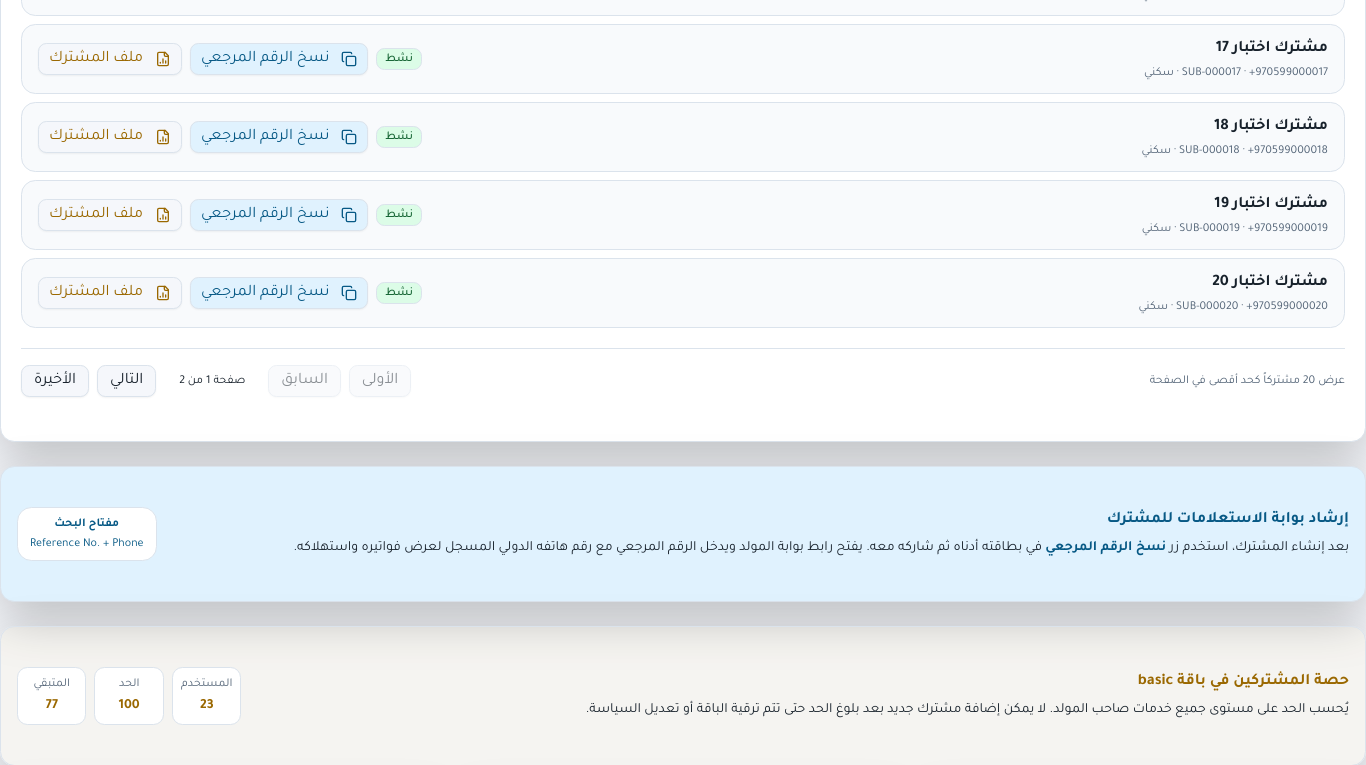
role guards in administration UI › shows no more than 20 subscribers per page and can navigate to the 21st subscriber
(page scrolled)
Expected: the text "مشترك اختبار 20" is shown, [1212,275,1328,291]
Expected: the text "مشترك اختبار 21" is not shown
Click the button "التالي".
click(127, 381)  # box [97,365,156,397]
(page scrolled)
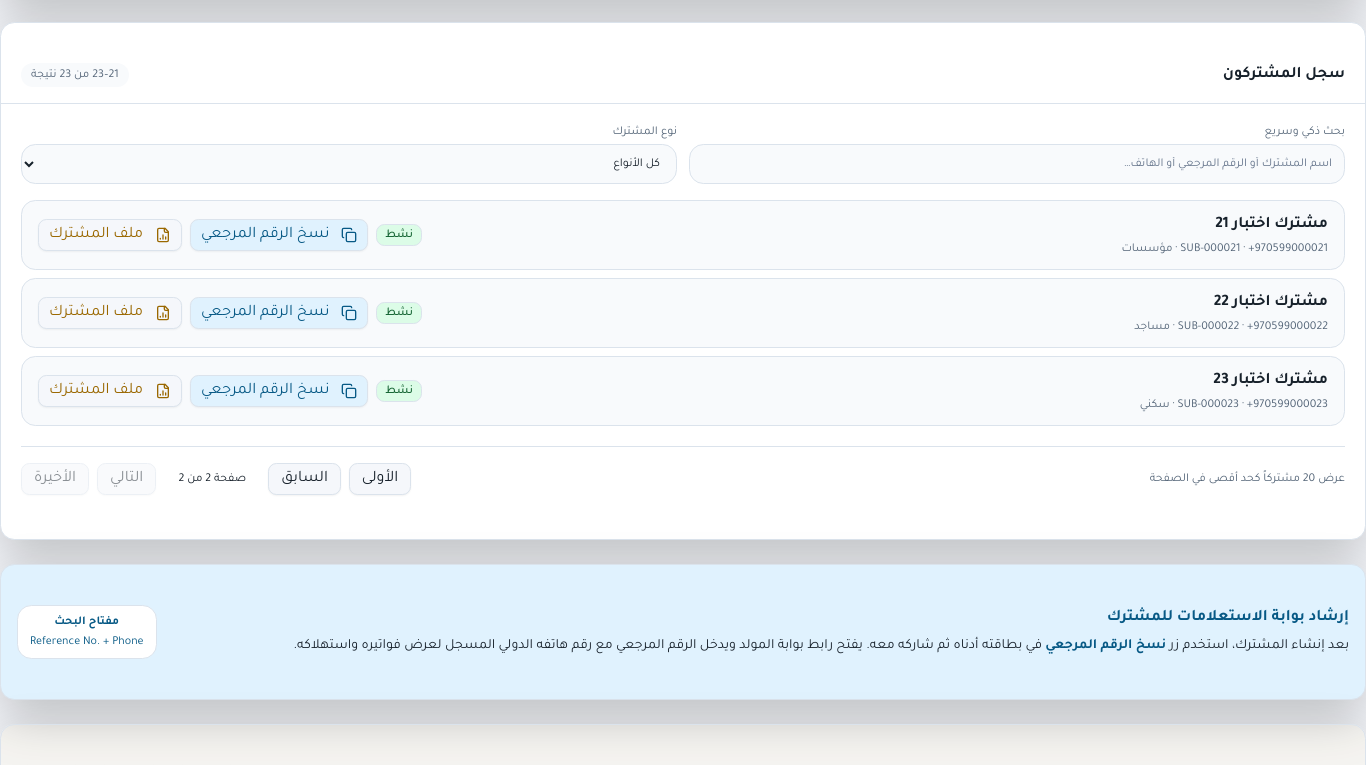
Now the text "مشترك اختبار 21" is shown, box [1215,217,1328,233]
Now the text "مشترك اختبار 23" is shown, box [1213,373,1328,389]
